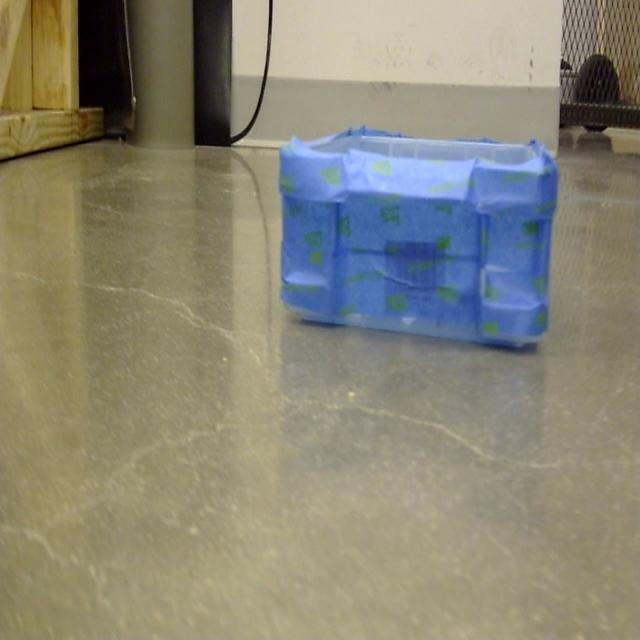bucket: (278, 129, 559, 353)
